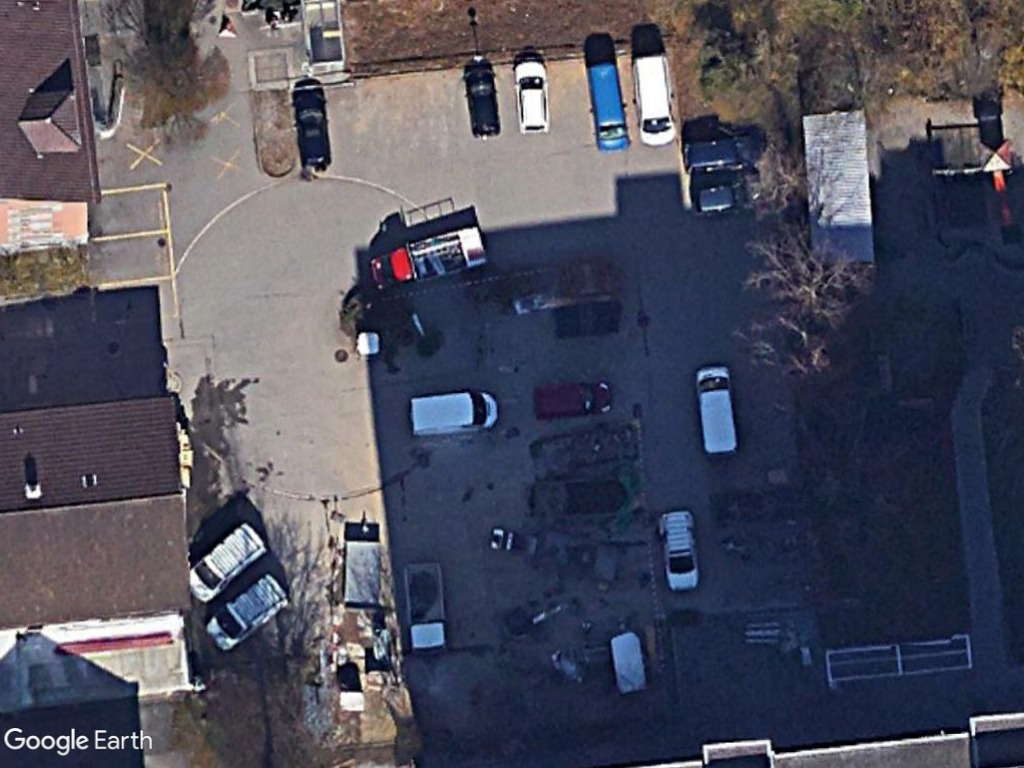car: (293, 91, 335, 174), (460, 63, 505, 140), (513, 57, 553, 135)
van: (206, 568, 291, 653), (187, 522, 269, 604), (407, 389, 500, 440), (694, 363, 741, 459), (587, 58, 632, 156), (632, 53, 678, 147), (657, 506, 702, 592)
